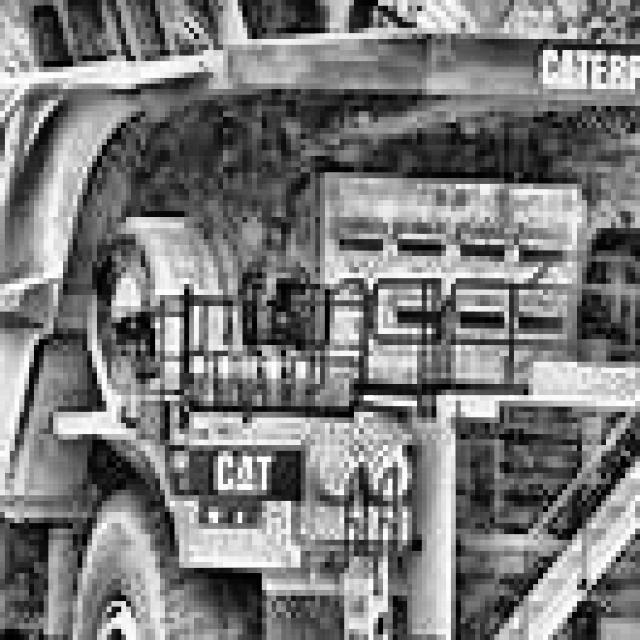dump_truck: (0, 22, 640, 640)
